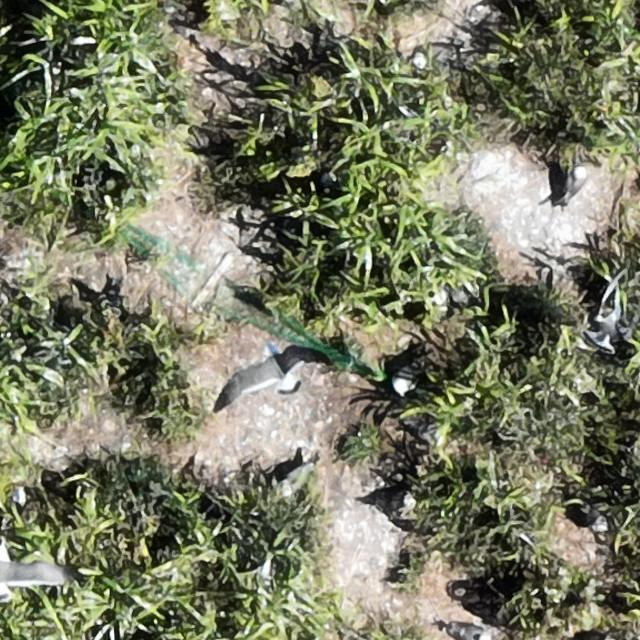F: (222, 336, 334, 405), (1, 546, 69, 599)
umineko: (582, 310, 621, 355), (412, 42, 459, 68), (280, 465, 314, 496), (433, 282, 472, 306), (394, 362, 419, 393), (385, 494, 421, 511), (584, 506, 608, 530), (452, 624, 486, 640), (570, 165, 586, 195)
